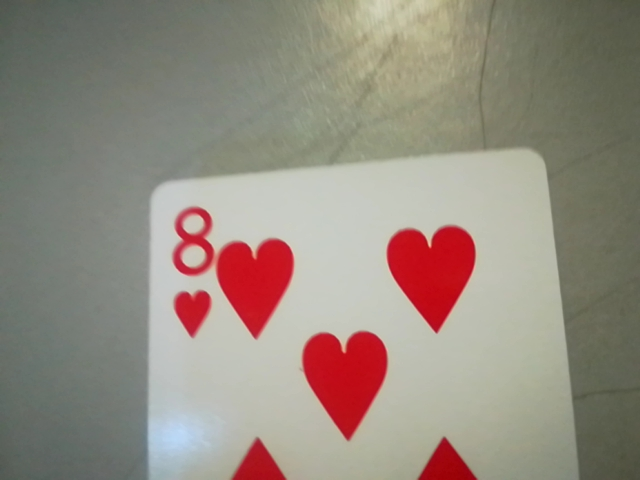hx 8: (156, 197, 223, 350)
